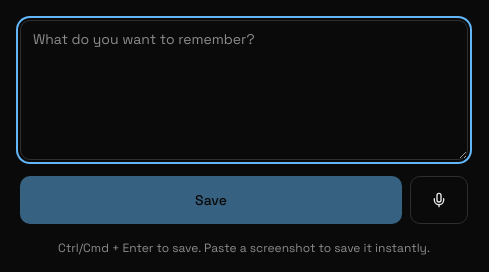
Test: /quick › Ctrl/Cmd+Enter saves
In the text box labelled "What do you want to remember?": (244, 90) [20,20,468,160], type "keyboard save"
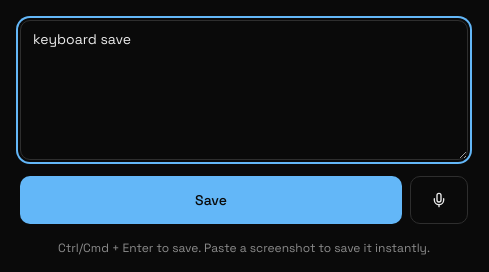
Press Enter in the text box named "What do you want to remember?", box [20,20,468,160]
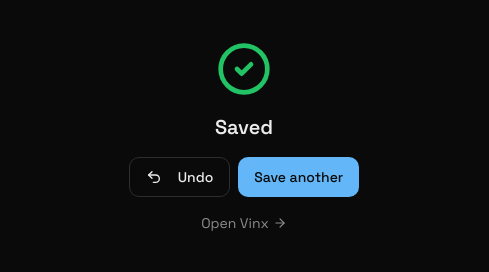
Check: the text "Saved" is shown, box [215,114,273,140]
